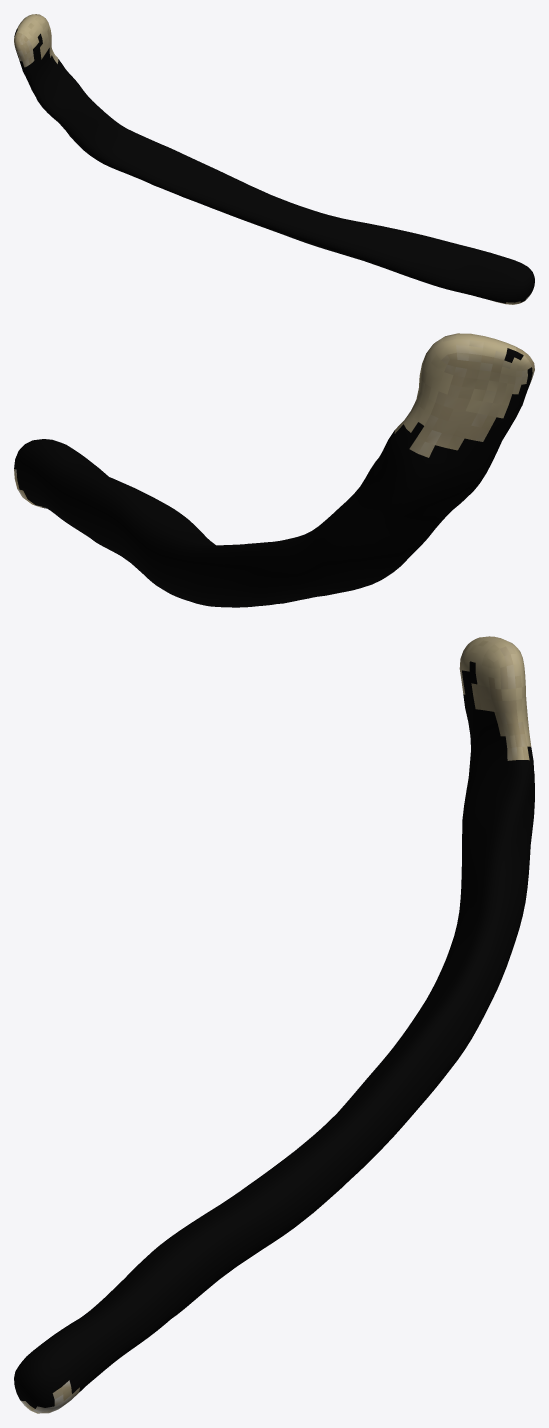
3 views of the same model, one above another, from view 1: azimuth 30°, elevation 25°; view 2: azimuth 150°, elevation 25°; view 3: azimuth 270°, elevation 25° (orthographic). The views are drawn at different scales.
Visible parts, largest first — view 1: CC R08; view 2: CC R08; view 3: CC R08.
Part boxes in pixels (x1,y1,x2,y2): CC R08: (14, 14, 534, 304); CC R08: (14, 333, 534, 607); CC R08: (14, 636, 534, 1413).
Size of the model in its own units: 15.09 by 10 by 10.
